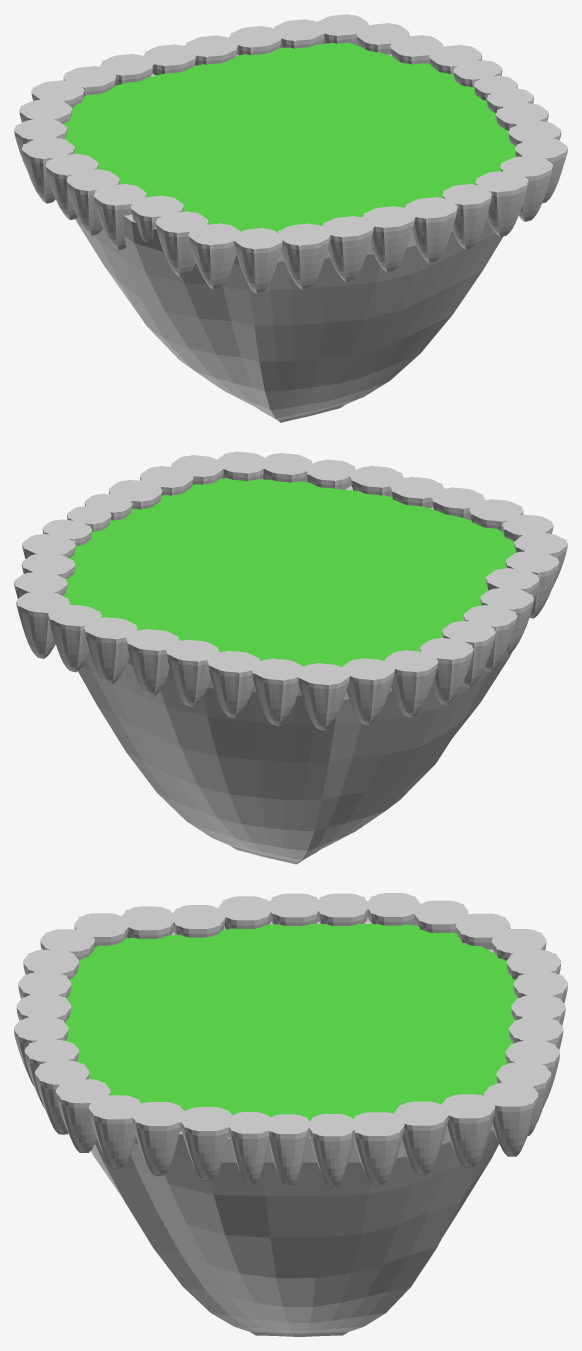
The model's file is floating_island.fbx.
The picture shows the model from 3 angles, top to bottom: view 1: azimuth 30°, elevation 25°; view 2: azimuth 150°, elevation 25°; view 3: azimuth 270°, elevation 25°; orthographic projection. The views are drawn at different scales.
Parts seen in each view (by area): view 1: Cube, Cube.007, Cube.015, Cube.011, Cube.013, Cube.014, Cube.012, Cube.009, Cube.016, Cube.010, Cube.018, Cube.019 (+25 smaller); view 2: Cube, Cube.007, Cube.040, Cube.030, Cube.024, Cube.031, Cube.023, Cube.035, Cube.033, Cube.034, Cube.036, Cube.021 (+24 smaller); view 3: Cube, Cube.007, Cube.032, Cube.038, Cube.005, Cube.004, Cube.039, Cube.037, Cube.006, Cube.002, Cube.008, Cube.001 (+25 smaller).
Part boxes in pixels (x1,y1,x2,y2): Cube: [63, 42, 516, 232]; Cube.007: [75, 54, 503, 422]; Cube.015: [188, 223, 241, 289]; Cube.011: [405, 197, 457, 263]; Cube.013: [321, 216, 374, 281]; Cube.014: [233, 228, 283, 293]; Cube.012: [362, 206, 415, 272]; Cube.009: [475, 171, 528, 236]; Cube.016: [155, 211, 208, 277]; Cube.010: [442, 184, 491, 249]; Cube.018: [93, 184, 146, 250]; Cube.019: [66, 169, 119, 235]; Cube: [62, 478, 516, 667]; Cube.007: [78, 486, 511, 864]; Cube.040: [298, 663, 349, 730]; Cube.030: [251, 658, 304, 726]; Cube.024: [341, 658, 394, 725]; Cube.031: [207, 650, 260, 718]; Cube.023: [384, 650, 438, 717]; Cube.035: [84, 617, 137, 684]; Cube.033: [165, 639, 219, 707]; Cube.034: [126, 629, 179, 696]; Cube.036: [48, 604, 101, 672]; Cube.021: [420, 637, 473, 705]; Cube: [65, 924, 517, 1121]; Cube.007: [91, 918, 499, 1336]; Cube.032: [350, 1112, 404, 1185]; Cube.038: [441, 1094, 495, 1168]; Cube.005: [131, 1102, 184, 1175]; Cube.004: [179, 1107, 233, 1180]; Cube.039: [394, 1101, 448, 1175]; Cube.037: [484, 1083, 538, 1156]; Cube.006: [89, 1095, 141, 1169]; Cube.002: [308, 1114, 356, 1186]; Cube.008: [56, 1079, 110, 1152]; Cube.001: [264, 1114, 310, 1185].
Bounding box in the file's own units: 2475 × 1445 × 2381.
